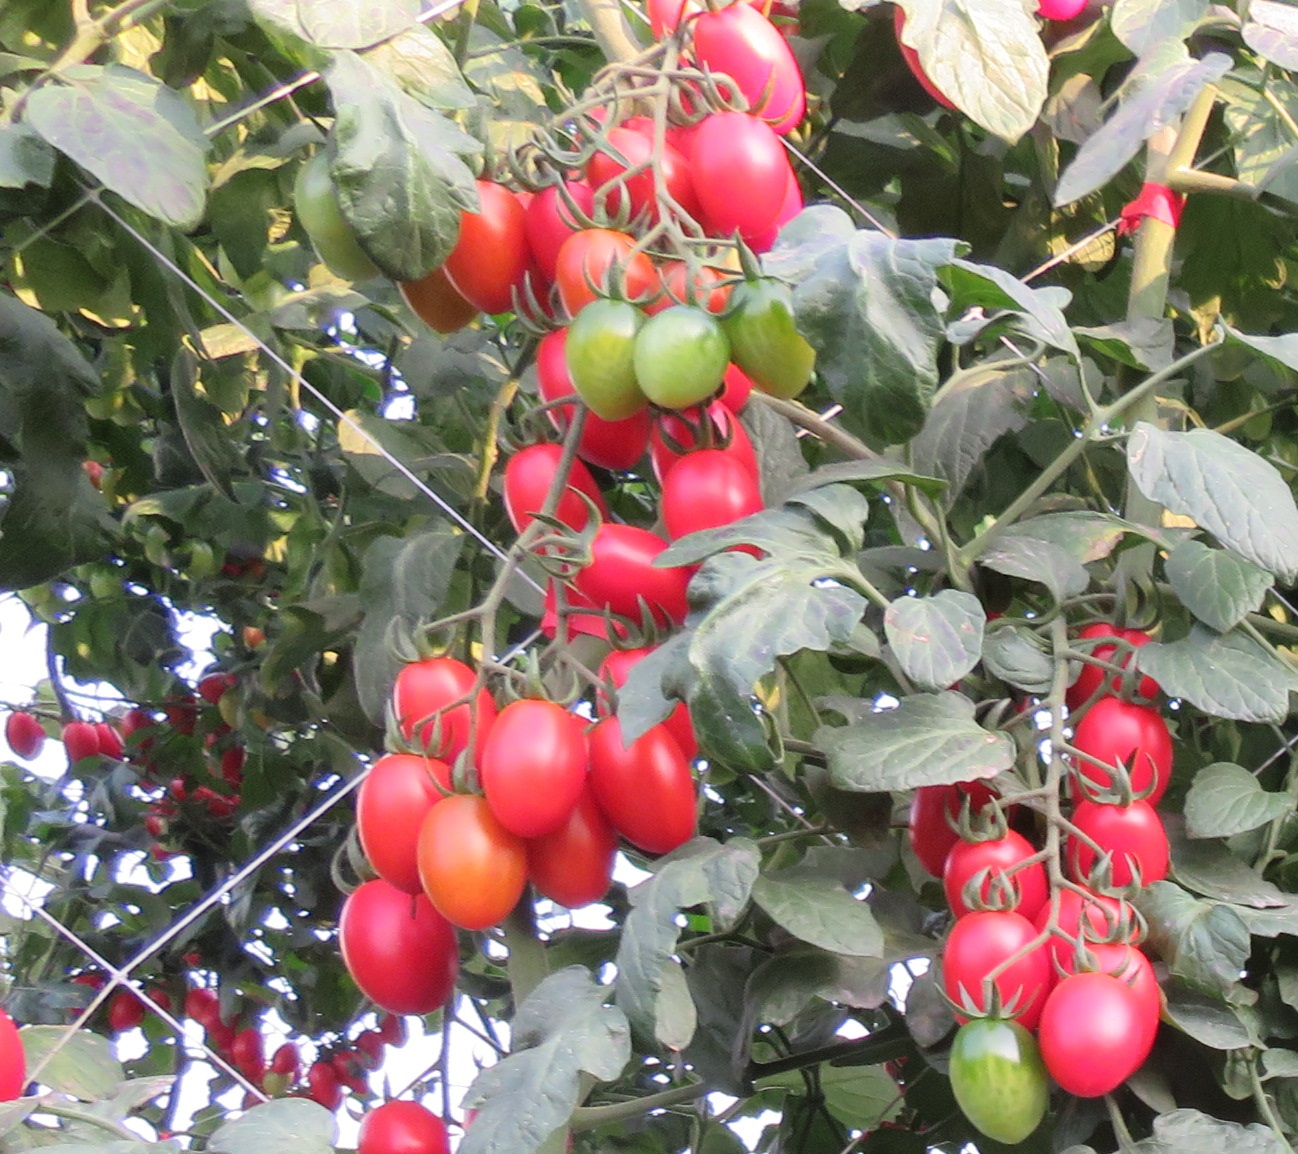green: (943, 1013, 1040, 1150), (728, 262, 814, 411), (632, 301, 726, 411), (568, 299, 633, 418), (297, 141, 361, 250), (91, 569, 123, 600)
orange: (424, 798, 520, 932), (398, 264, 484, 342), (574, 223, 661, 295)
red: (325, 873, 453, 1018), (584, 711, 703, 853), (690, 7, 811, 140), (488, 687, 591, 842), (943, 902, 1062, 1027), (691, 104, 789, 247), (1043, 967, 1149, 1098), (528, 764, 619, 913), (562, 521, 696, 622), (359, 740, 461, 870), (1058, 786, 1172, 894), (504, 432, 598, 560), (1056, 695, 1174, 795), (458, 170, 531, 317), (937, 828, 1047, 918), (910, 779, 1011, 878), (591, 123, 680, 229), (394, 649, 486, 747), (661, 449, 757, 530), (347, 1098, 441, 1154), (1123, 179, 1182, 251), (1, 1007, 28, 1109), (645, 1, 697, 47), (104, 992, 147, 1036), (61, 718, 103, 759), (183, 988, 222, 1029), (12, 700, 39, 753), (354, 1028, 386, 1072), (308, 1062, 338, 1106), (230, 1029, 264, 1066), (276, 1041, 300, 1080)
